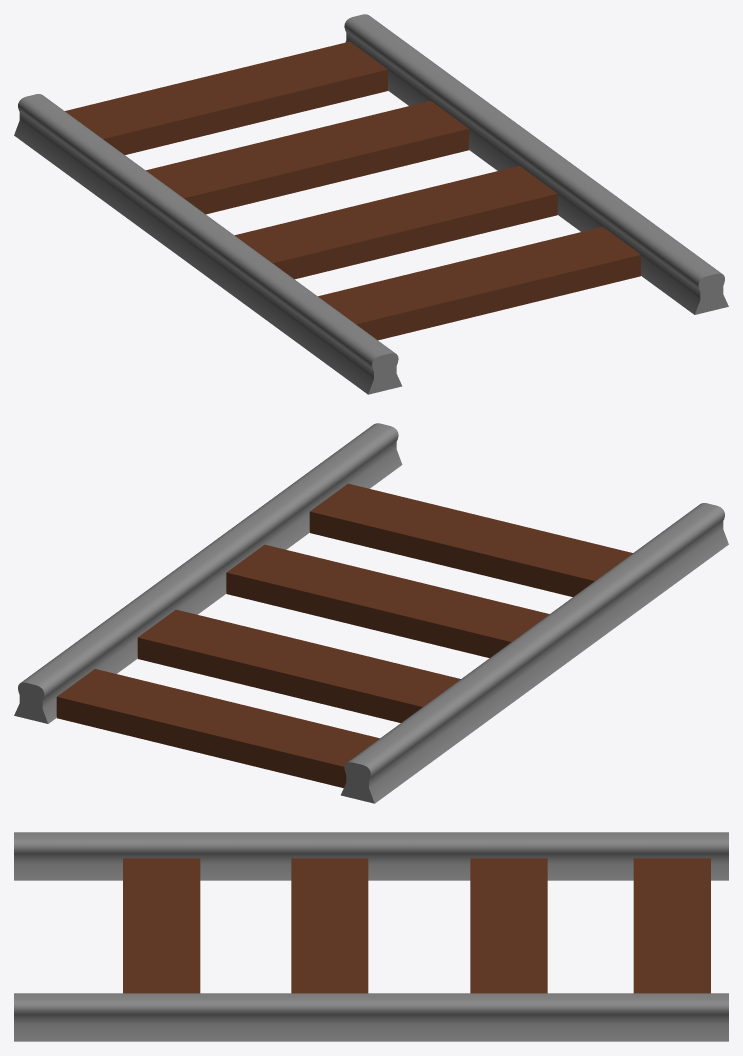
File: vias_tren.fbx
3 views of the same model, one above another, from view 1: azimuth 30°, elevation 25°; view 2: azimuth 150°, elevation 25°; view 3: azimuth 270°, elevation 25° (orthographic).
Visible parts, largest first — view 1: Cube.004; view 2: Cube.004; view 3: Cube.004.
Boxes of the visible parts, x1,y1,x2,y2 form: Cube.004: (14,14,728,394); Cube.004: (14,423,728,803); Cube.004: (14,832,728,1041).
Bounding box in the file's own units: 1890 × 183 × 3213.
